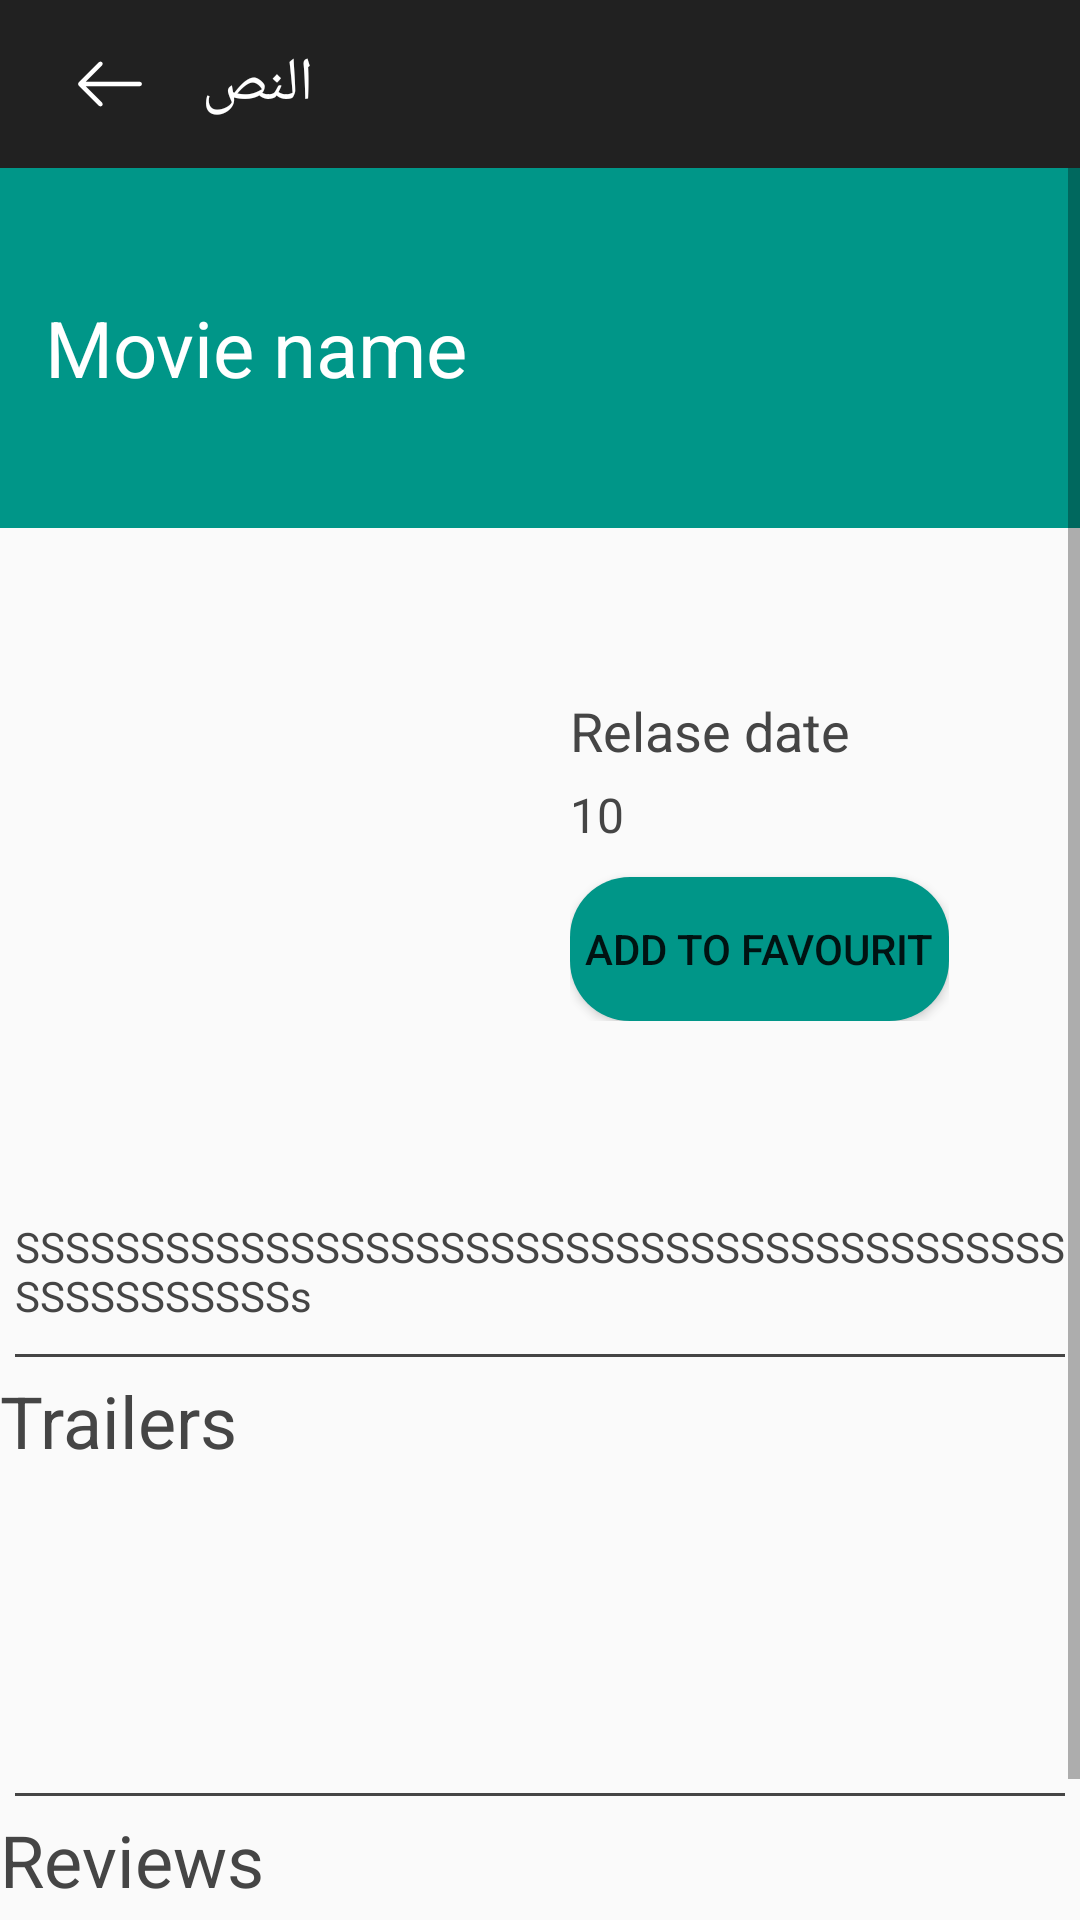

Icons on this 1080x1920 Android screen, each with the point to tap as [x,y]:
left arrow: [110,84]
